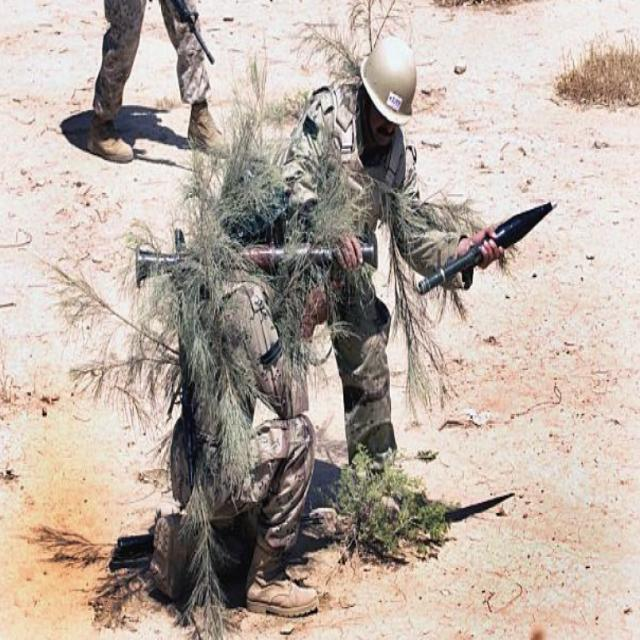bazooka: (411, 199, 569, 317), (131, 233, 385, 292)
